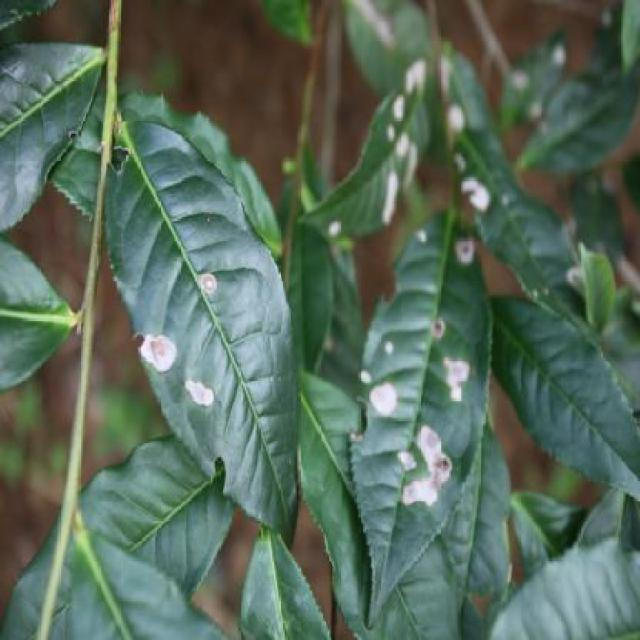Leaf rust of tea: (98, 191, 300, 506), (368, 237, 486, 558)
